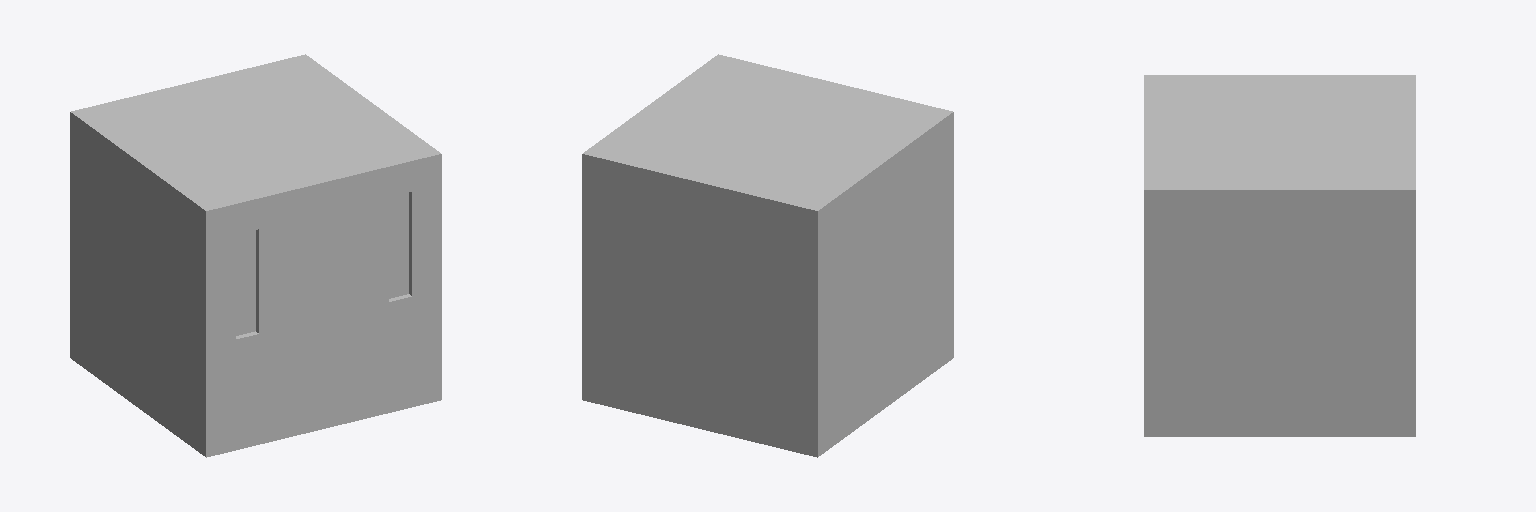
Rendered from BasicHead.obj.
3 renders of one model, left to right at view 1: azimuth 30°, elevation 25°; view 2: azimuth 150°, elevation 25°; view 3: azimuth 270°, elevation 25°, orthographic.
Visible parts, largest first — view 1: object 1; view 2: object 1; view 3: object 1.
Part boxes in pixels (bbox=[...]): object 1: bbox=[70, 54, 441, 457]; object 1: bbox=[582, 54, 953, 457]; object 1: bbox=[1144, 75, 1415, 436].
Size of the model in its own units: 4 by 4 by 4.